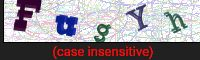F: (8, 1, 50, 39)
Y: (124, 2, 152, 35)
g: (88, 22, 115, 43)
h: (157, 8, 193, 38)
u: (53, 7, 82, 39)
